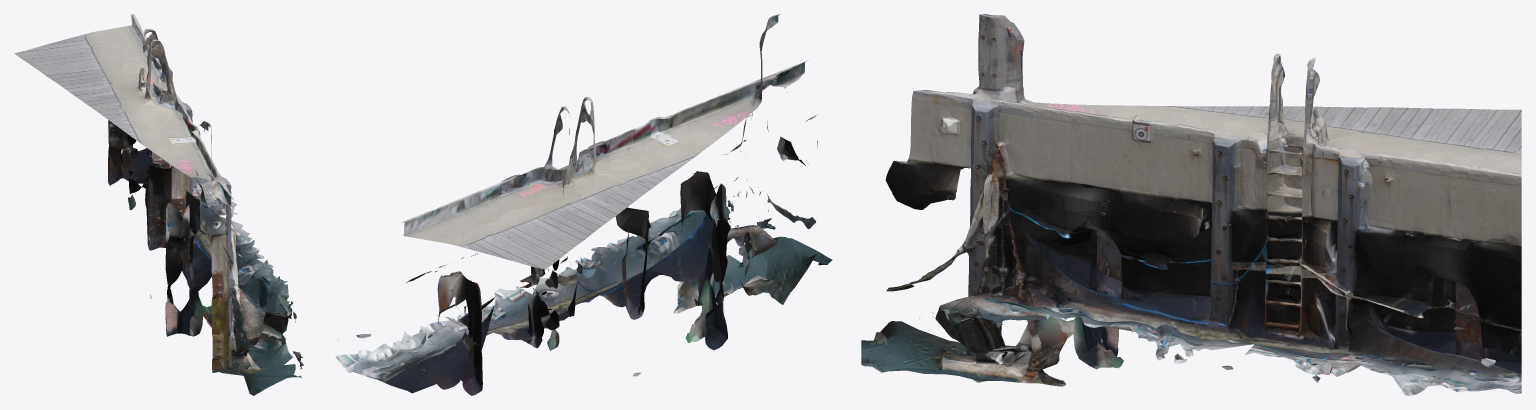
3 renders of one model, left to right at view 1: azimuth 30°, elevation 25°; view 2: azimuth 150°, elevation 25°; view 3: azimuth 270°, elevation 25°, orthographic. The views are drawn at different scales.
Size of the model in its own units: 3.57 by 4.74 by 8.36.
3 materials, 3 textured.
